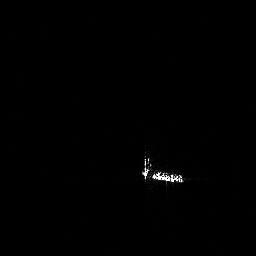ship: (141, 153, 184, 183)
